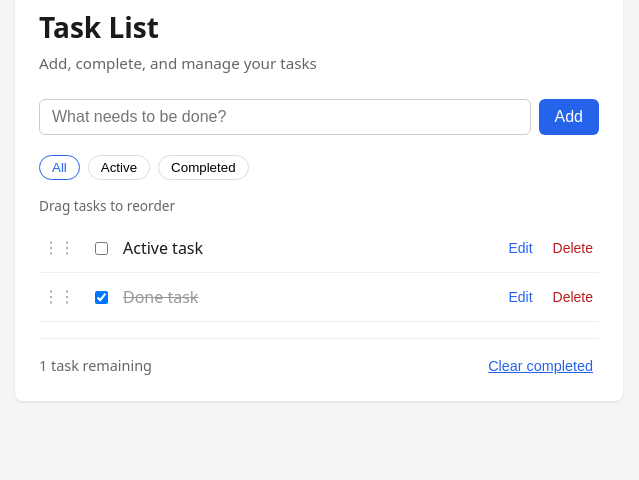
App › shows an error when clearing completed tasks fails
Expected: the text "Done task" is shown, [123, 286, 198, 308]
Click the button "Clear completed" at (541, 366), box [482, 357, 599, 375]
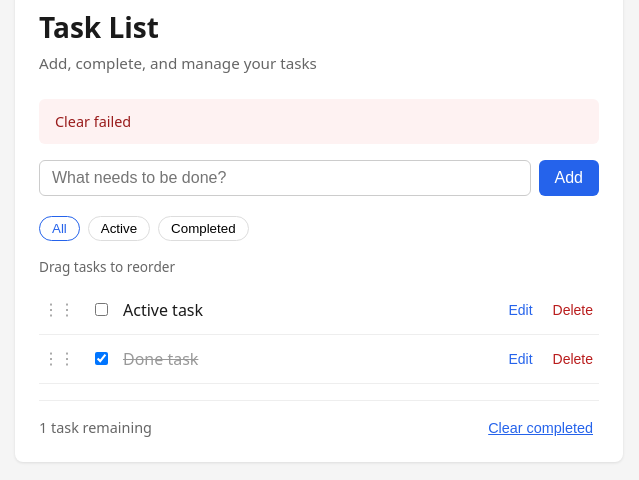
Expected: the text "Done task" is shown, [123, 348, 198, 370]
Expected: the message reads "Clear failed", [55, 112, 131, 131]
